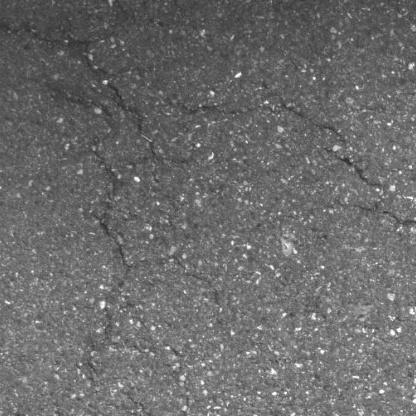Cracks: (0, 16, 147, 379), (166, 92, 350, 145), (169, 253, 227, 317), (129, 136, 191, 189), (322, 147, 384, 192), (355, 204, 416, 237), (123, 385, 157, 416)
